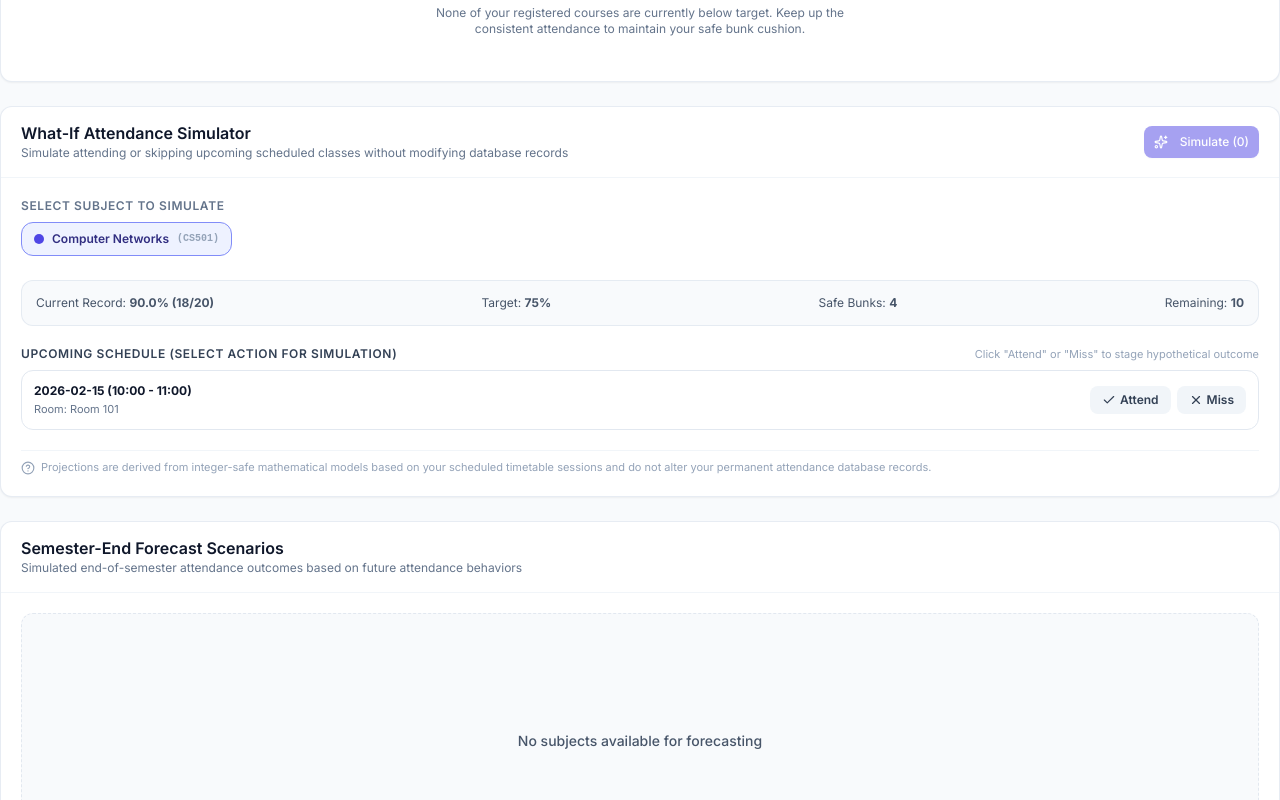
Smart Bunk Planner & What-If Simulator › executes what-if simulation when future sessions are staged
This screenshot has width=1280, height=800.
(page scrolled)
Note: In What-If simulator, click Attend for sess-100
Click the button "Attend". click: {"x": 1130, "y": 400}
box: [1090,386,1171,414]
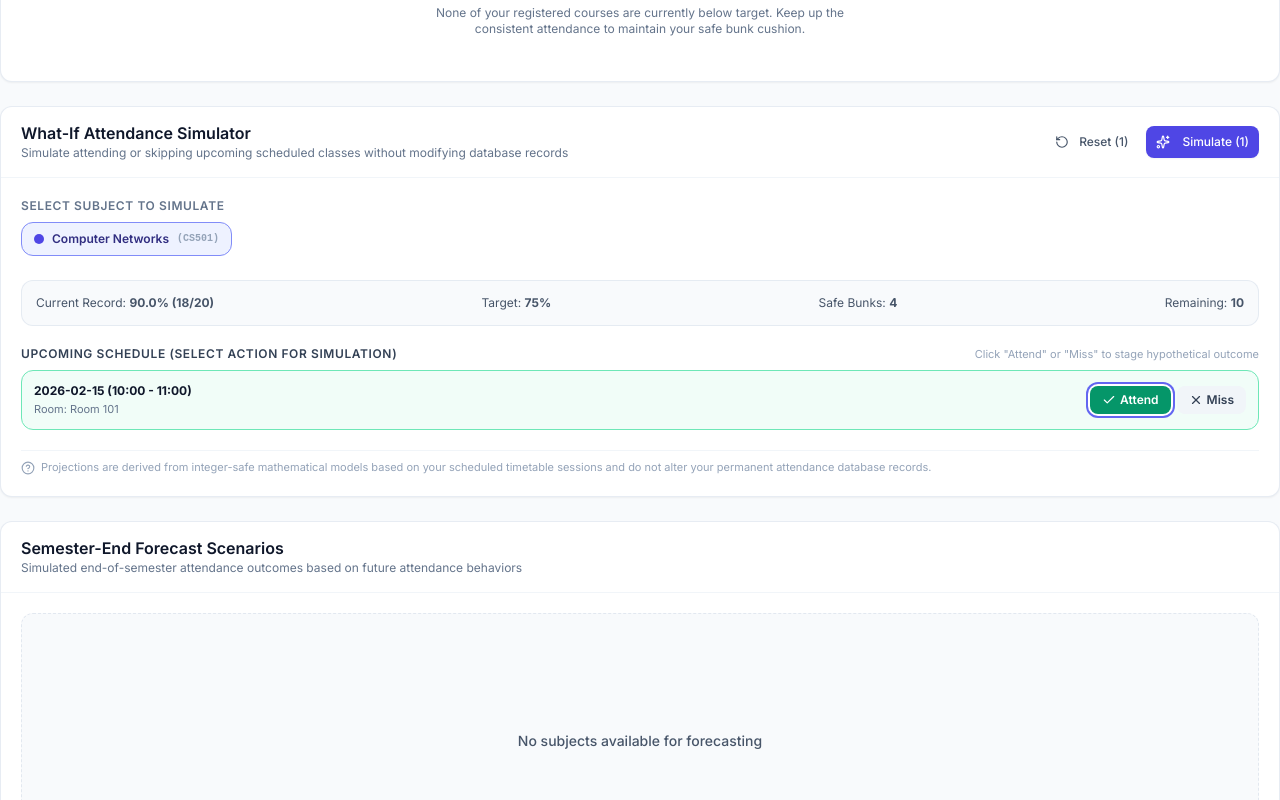
Note: Click Simulate button
Click the button "Simulate (1)". click: {"x": 1203, "y": 142}
box: [1146,126,1259,158]
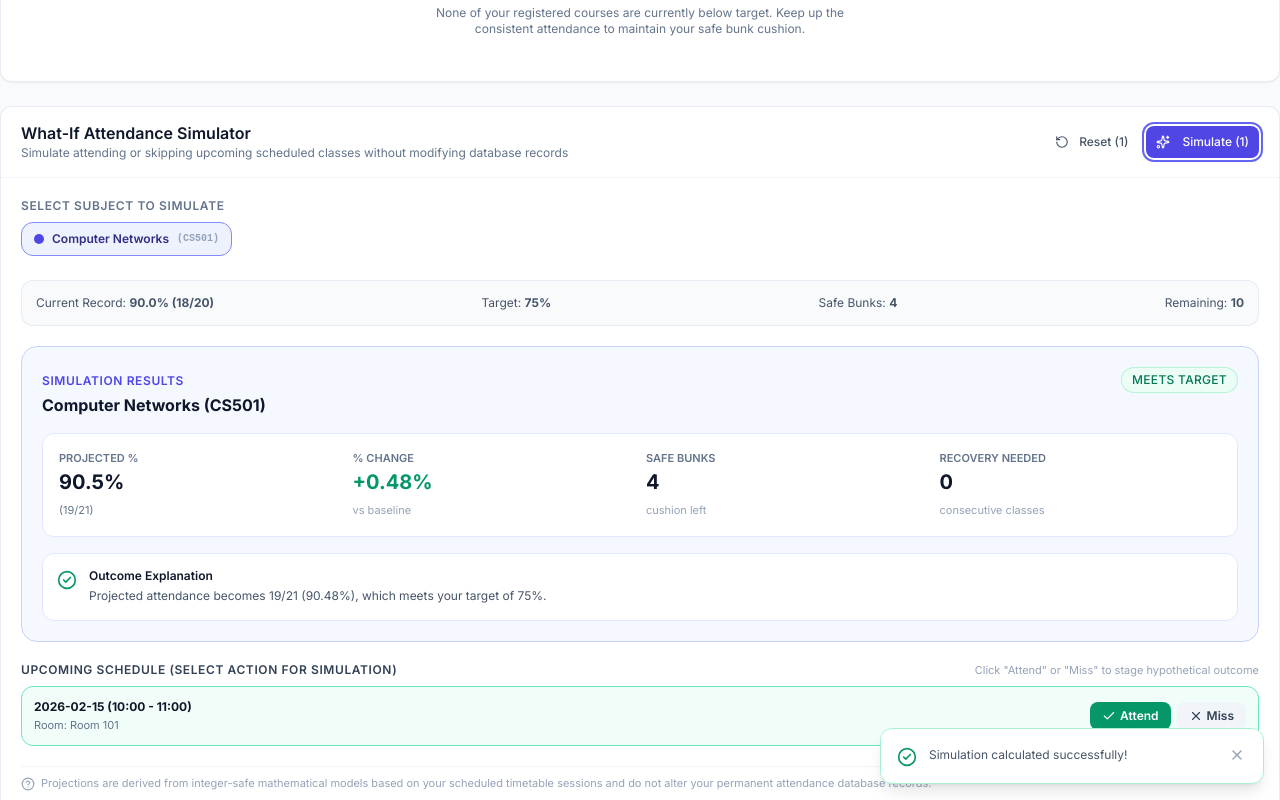
Result: the text "90.5%" is shown at [59,470,124,494]
Result: the text "Meets Target" is shown at [1121,367,1238,393]
